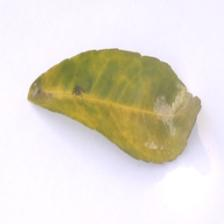greening: (100, 78, 150, 134)
